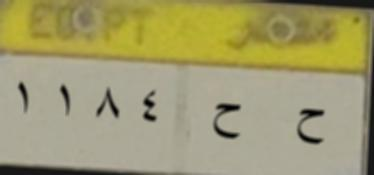1: (10, 74, 36, 120), (52, 81, 76, 122)
4: (139, 83, 162, 130)
7aa: (290, 96, 330, 150), (207, 98, 248, 148)
8: (94, 82, 123, 128)
